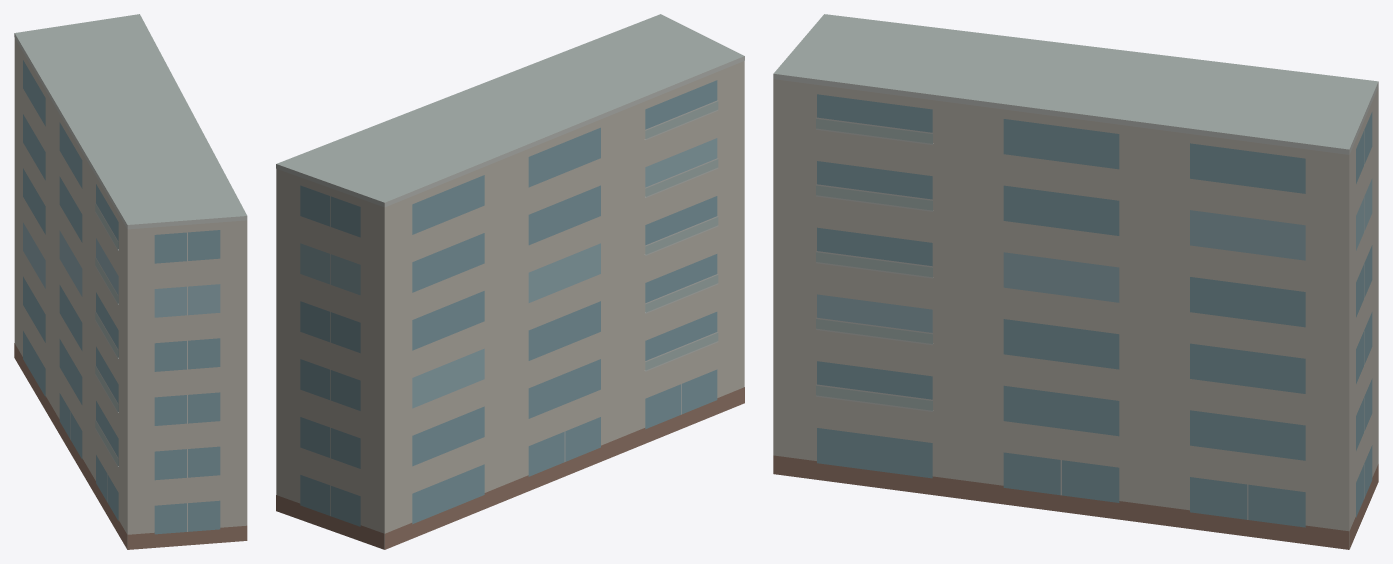
Rendered from survey-upis-32870559.glb.
3 views of the same model, side by side, from view 1: azimuth 30°, elevation 25°; view 2: azimuth 150°, elevation 25°; view 3: azimuth 270°, elevation 25° (orthographic). The views are drawn at different scales.
Visible parts, largest first — view 1: survey-upis-32870559.tmp; view 2: survey-upis-32870559.tmp; view 3: survey-upis-32870559.tmp.
Part boxes in pixels (x1,y1,x2,y2): survey-upis-32870559.tmp: [14, 14, 247, 549]; survey-upis-32870559.tmp: [276, 14, 744, 549]; survey-upis-32870559.tmp: [773, 14, 1378, 549].
Size of the model in its own units: 13.08 by 18 by 24.67.
